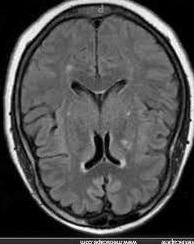Normal_Brain: (1, 1, 194, 244)
